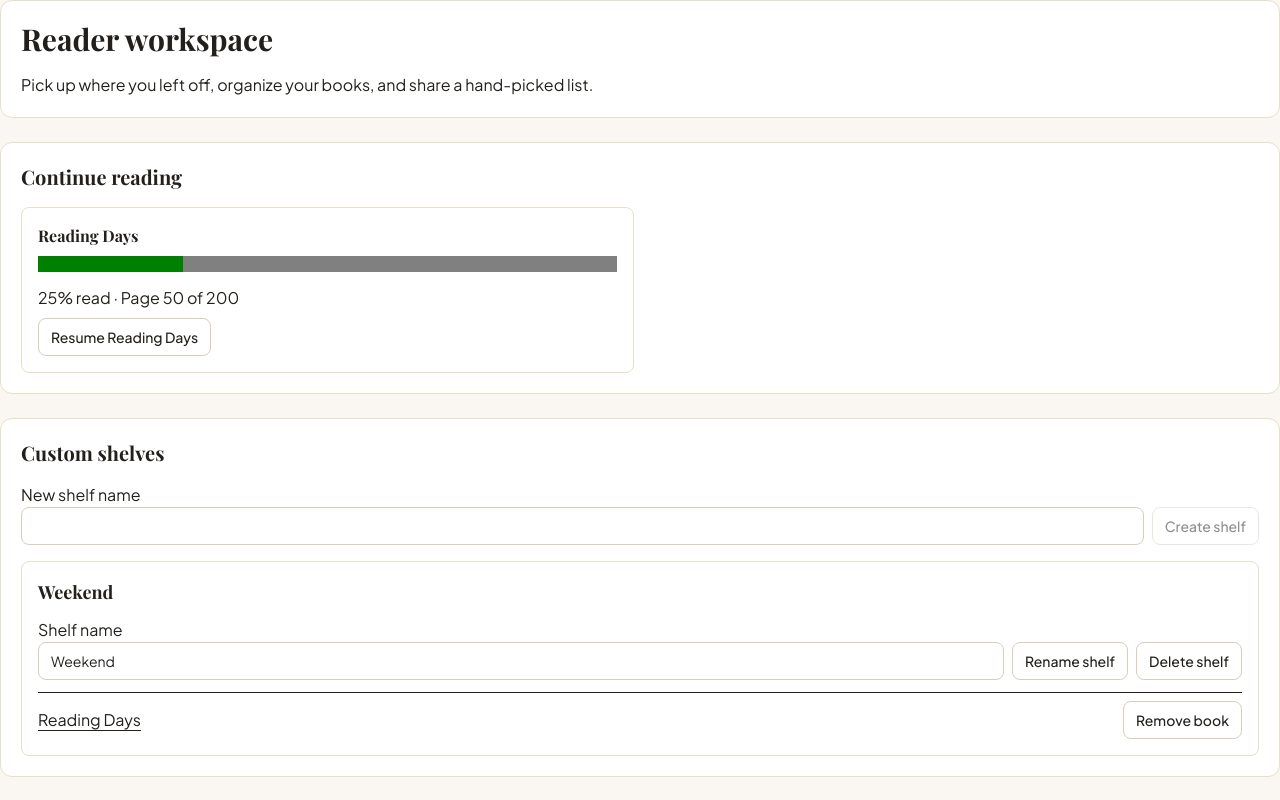
Scenario: reader workspace › resumes a saved book and unfollows an author
Click the button "Resume Reading Days": (125, 337) left=38, top=318, right=211, bottom=356
(page scrolled)
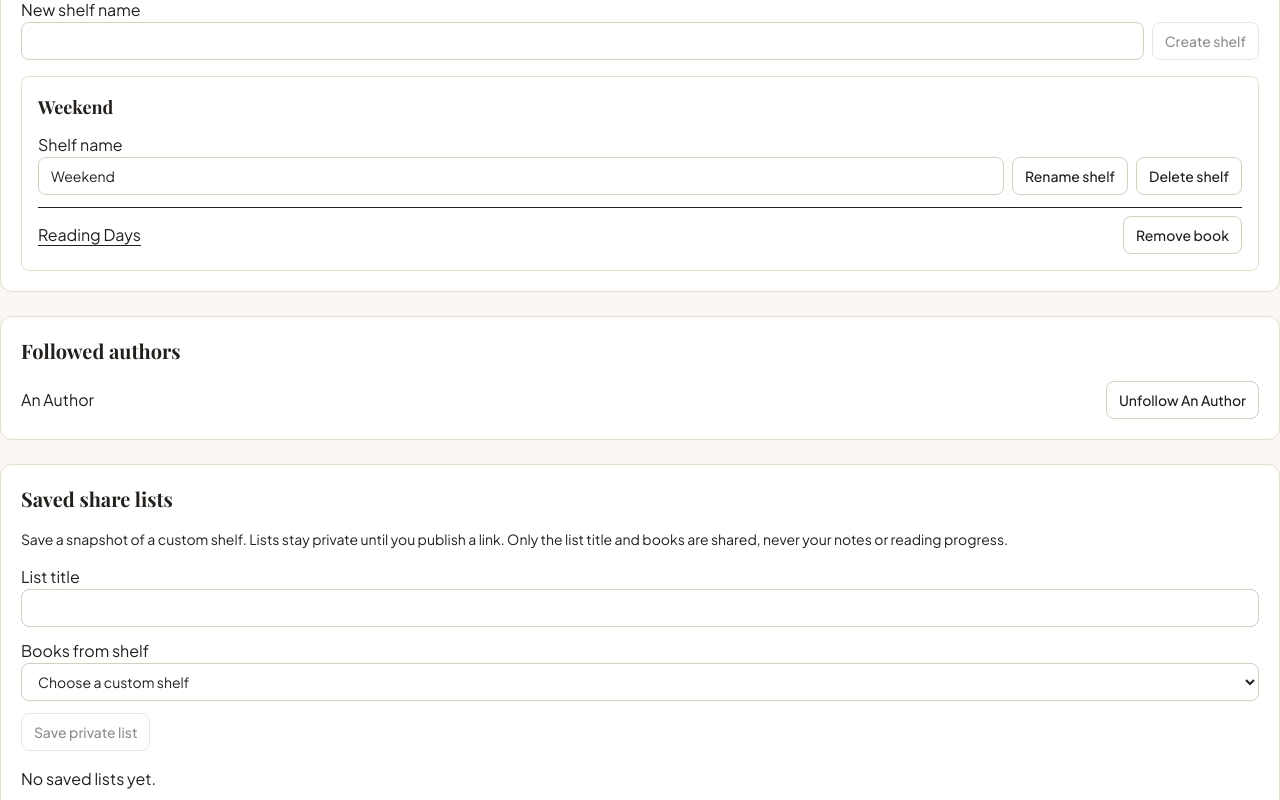
Click the button "Unfollow An Author": (1182, 400) left=1106, top=381, right=1259, bottom=419
(page scrolled)
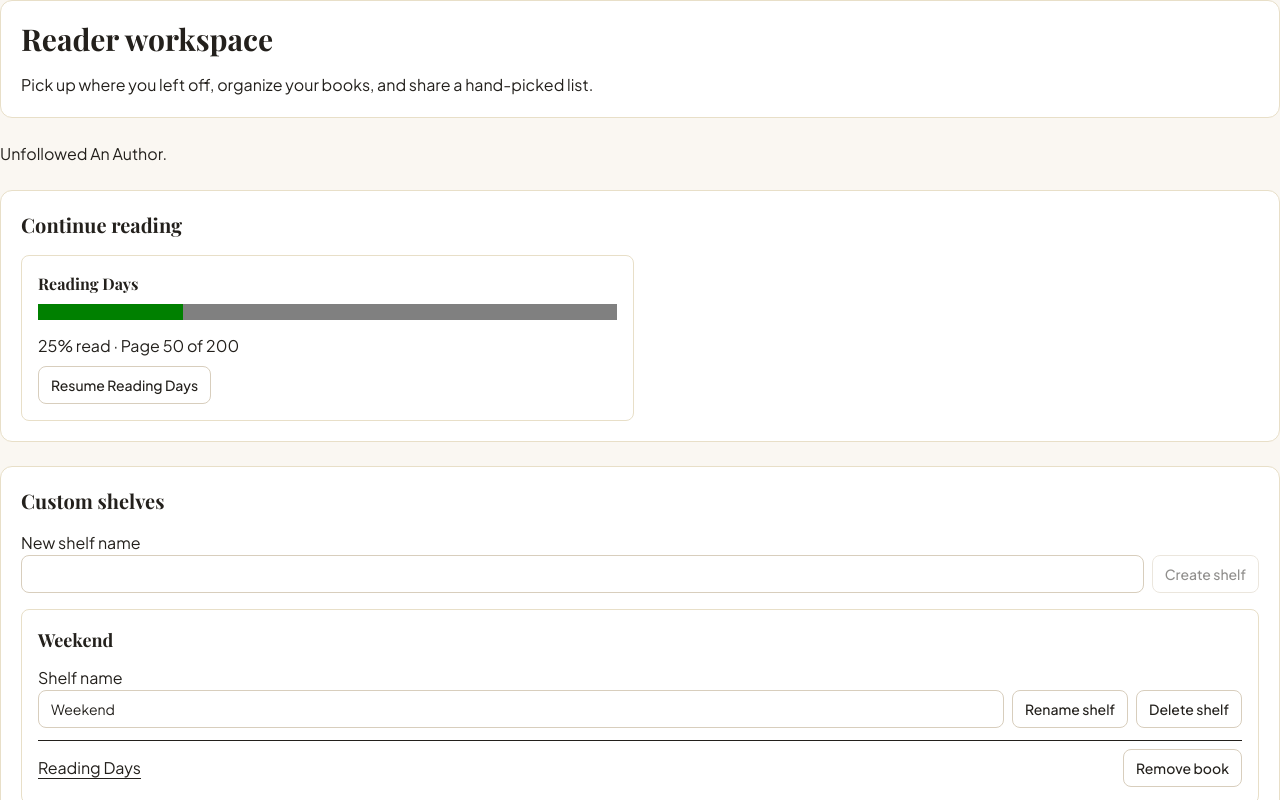
Check: the text "Unfollowed An Author." is shown, box left=0, top=143, right=167, bottom=164
Check: the button "Unfollow An Author" is gone
